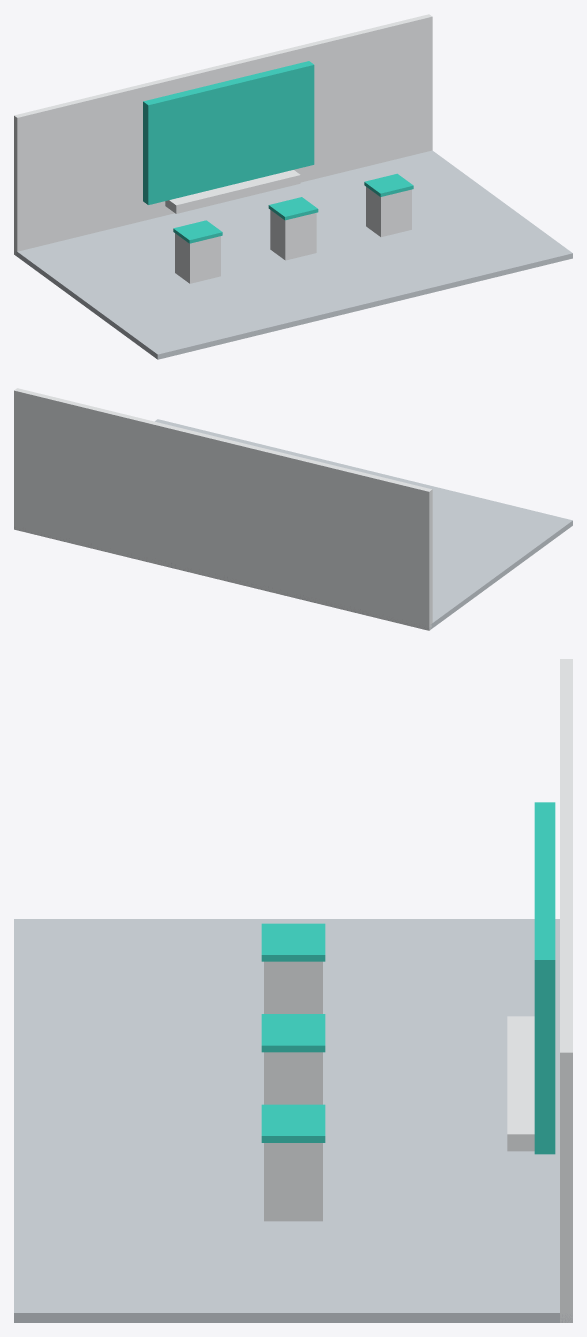
The picture shows the model from 3 angles, top to bottom: view 1: azimuth 30°, elevation 25°; view 2: azimuth 150°, elevation 25°; view 3: azimuth 270°, elevation 25°; orthographic projection. The views are drawn at different scales.
Visible parts, largest first — view 1: Exhibition Booth Concept; view 2: Exhibition Booth Concept; view 3: Exhibition Booth Concept.
Part boxes in pixels (x1=…): Exhibition Booth Concept: x1=14, y1=14, x2=572, y2=359; Exhibition Booth Concept: x1=14, y1=388, x2=572, y2=630; Exhibition Booth Concept: x1=14, y1=659, x2=572, y2=1322.
Bounding box in the file's own units: 10 × 3.2 × 6.
